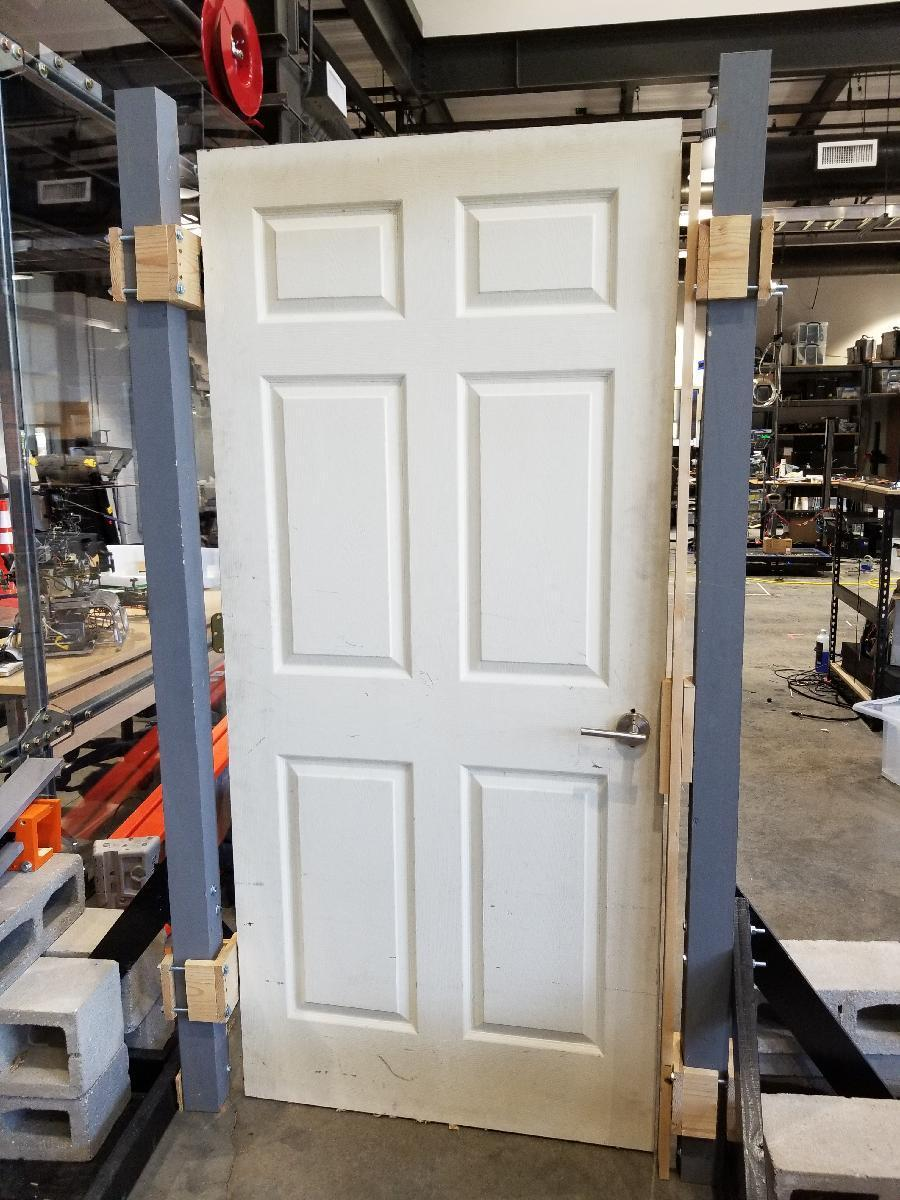door: (198, 143, 660, 1151)
handle: (566, 708, 655, 755)
